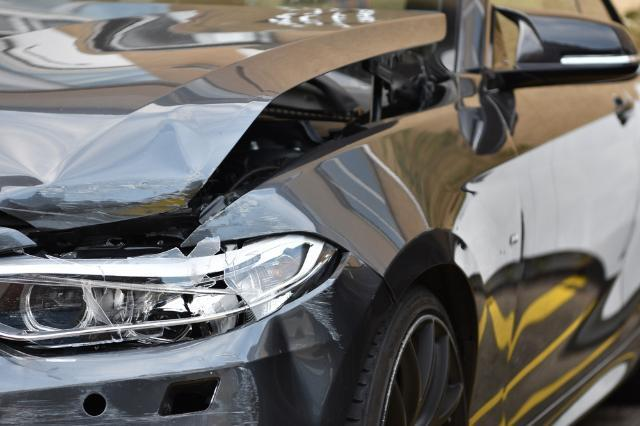dent: (0, 117, 192, 199), (255, 306, 342, 416)
dislocated part: (25, 34, 445, 267)
lamp broken: (0, 236, 343, 356)
no part: (161, 381, 219, 417), (85, 395, 104, 417)
scratch: (0, 368, 259, 426), (0, 171, 207, 232), (200, 194, 297, 240), (300, 285, 335, 332)
